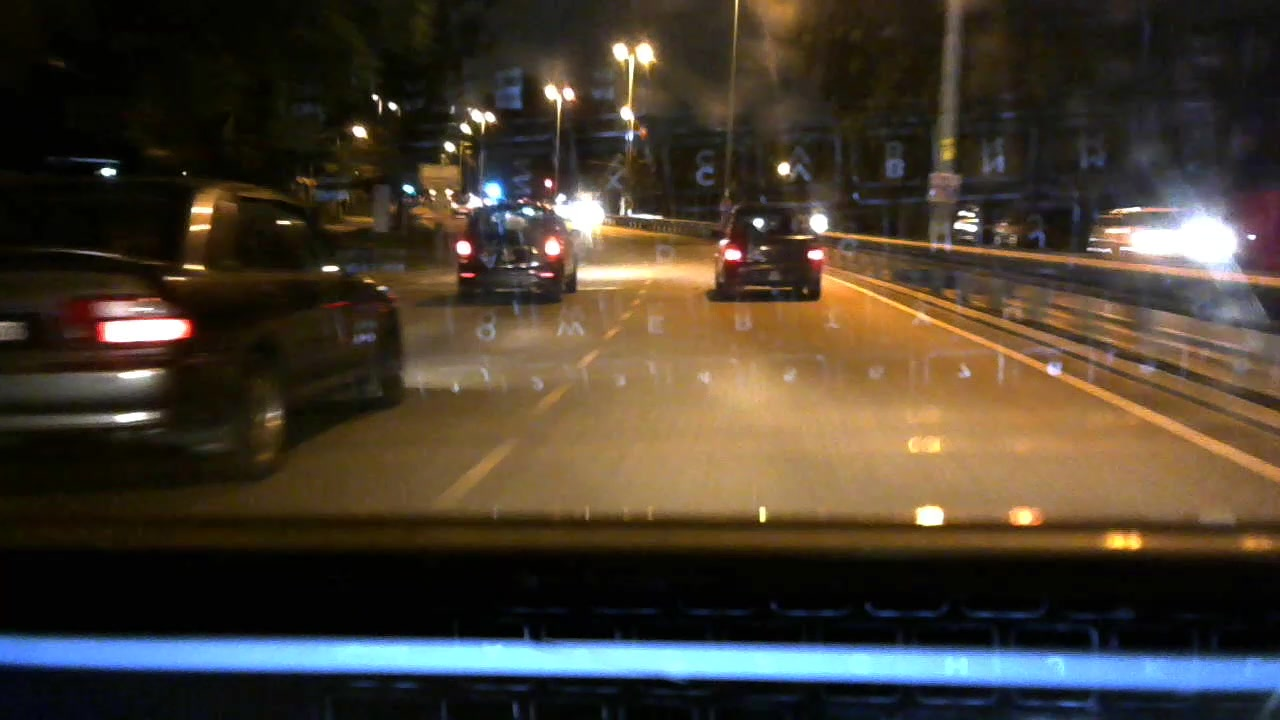Car: (9, 164, 420, 466), (704, 196, 839, 318), (444, 202, 581, 309), (1069, 196, 1255, 271)
